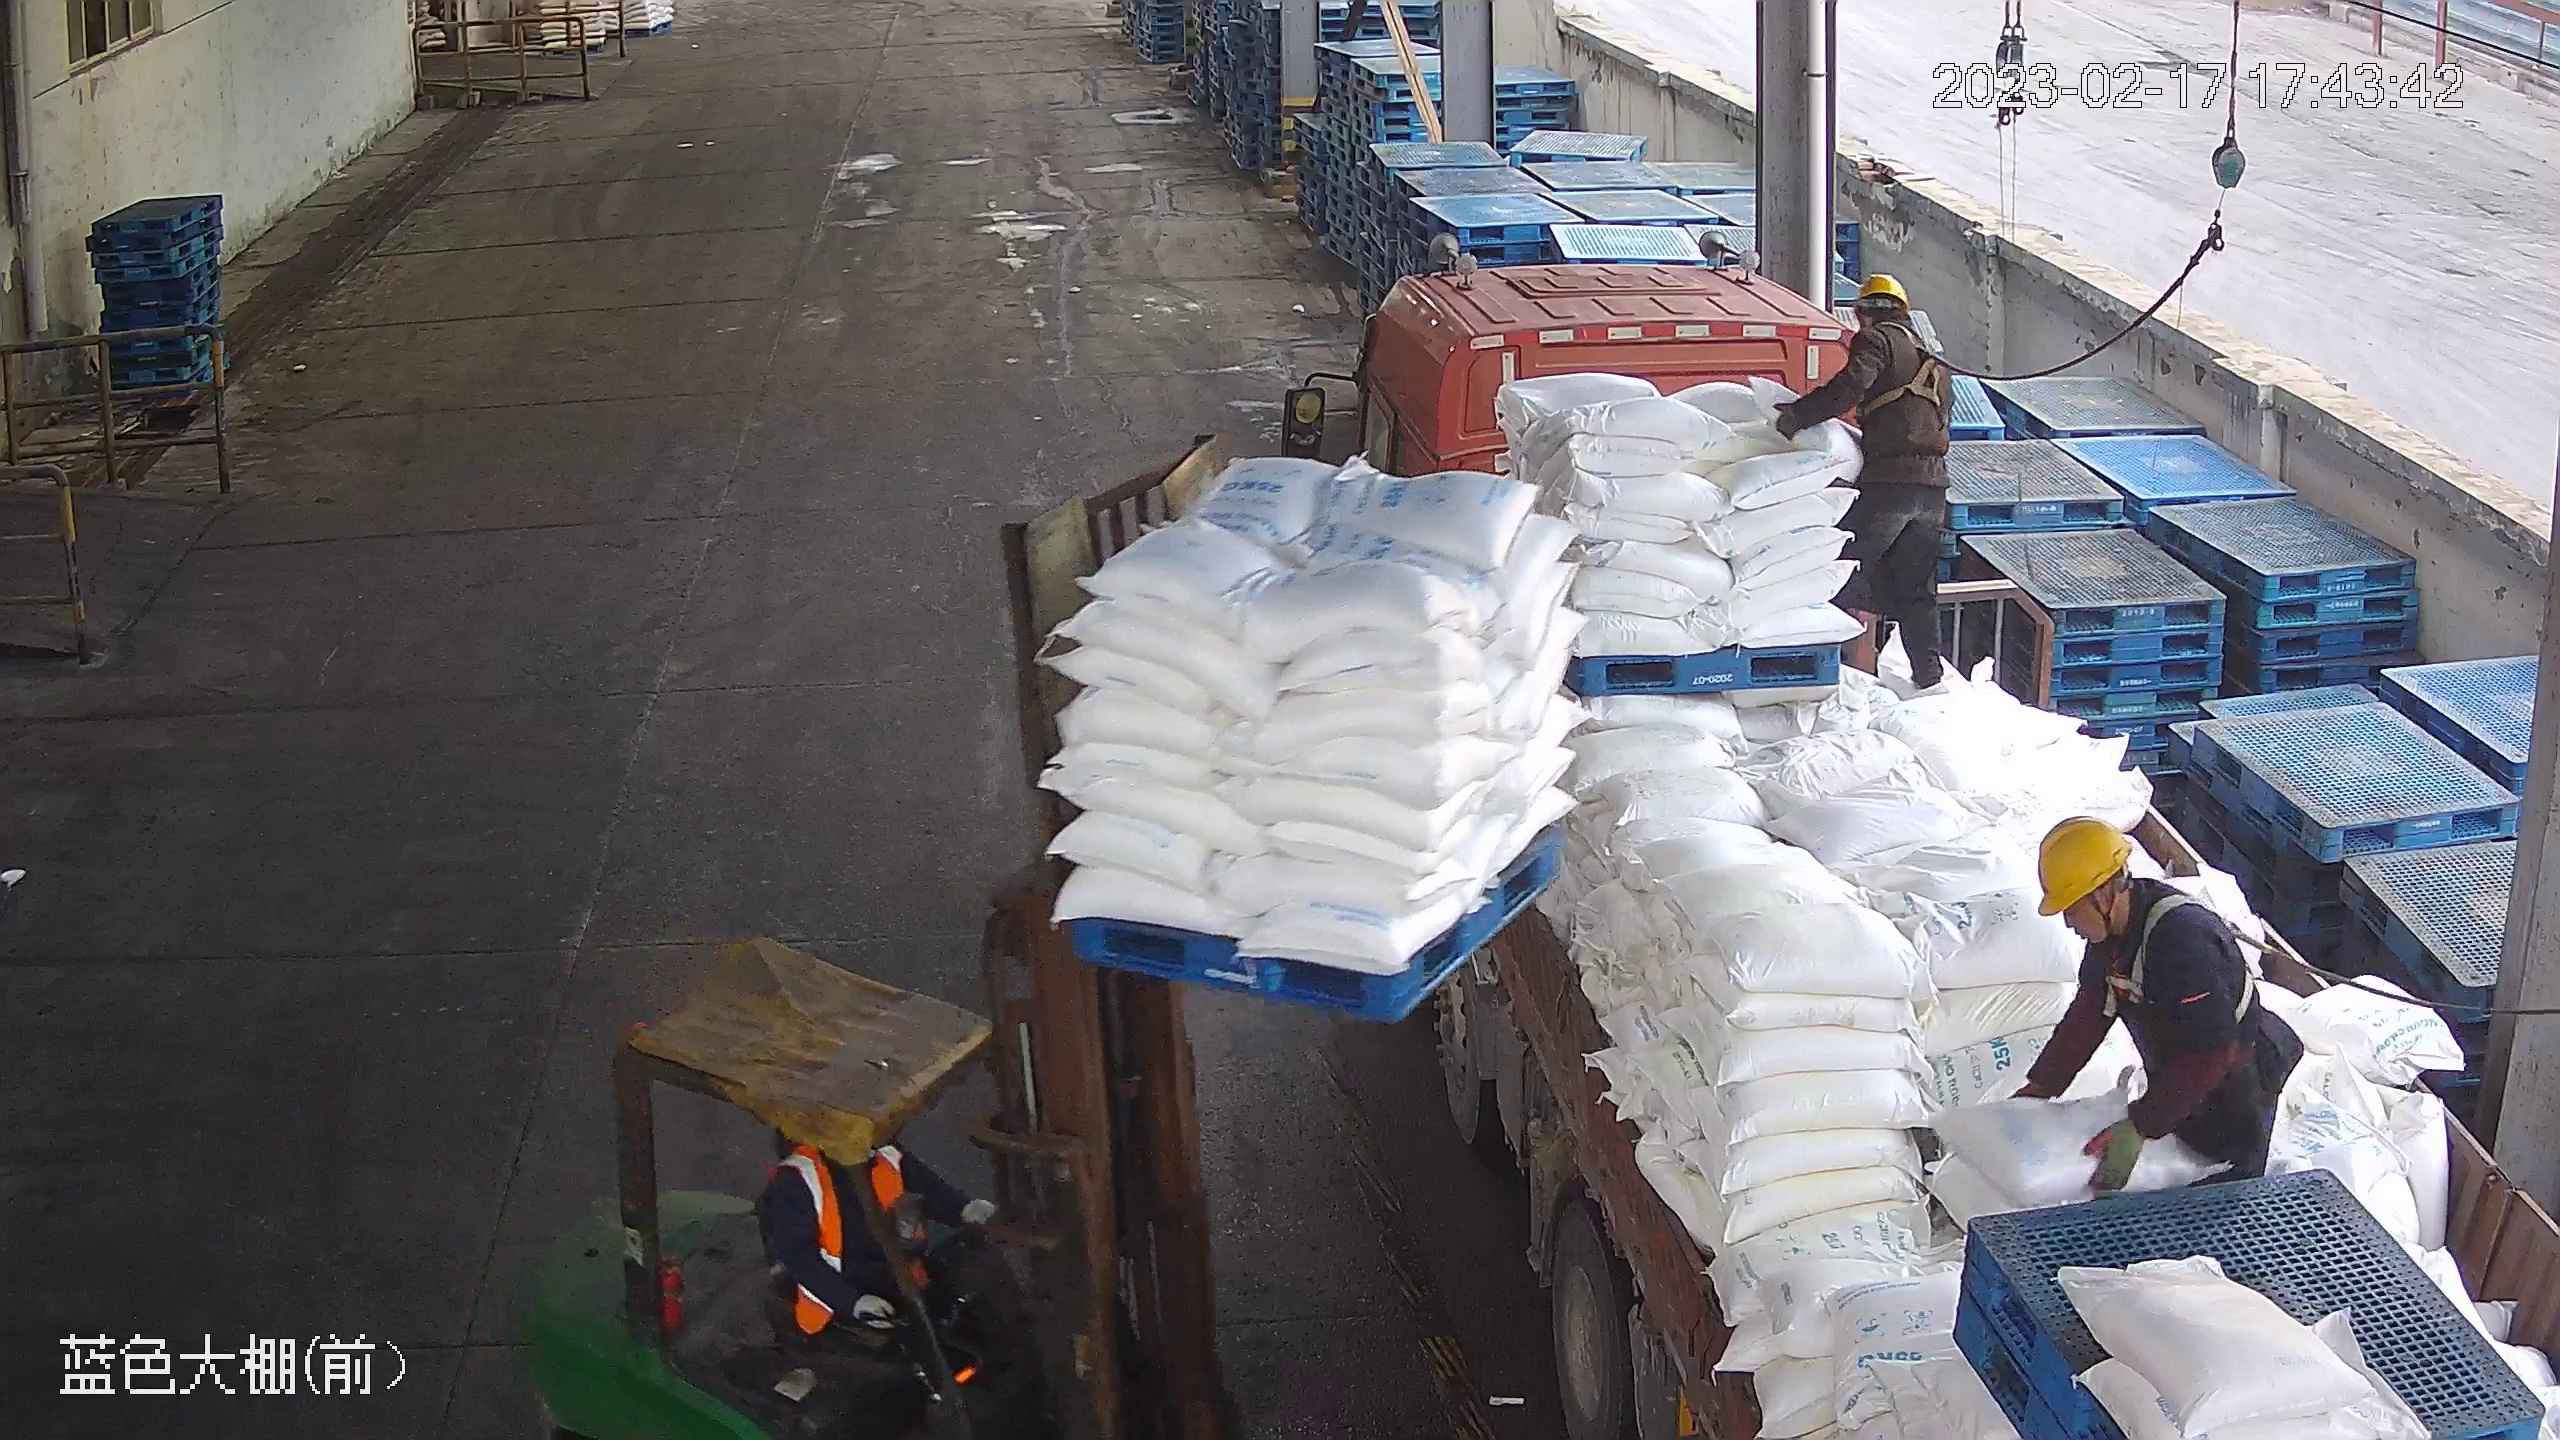belt: (2088, 891, 2256, 1018), (1854, 328, 1976, 420)
head: (2035, 813, 2232, 1010), (1815, 272, 1952, 415)
helmet: (2037, 813, 2140, 918), (1856, 274, 1917, 322)
people: (2011, 817, 2306, 1194), (1774, 271, 1961, 693)
truck: (1274, 254, 2560, 1440)
